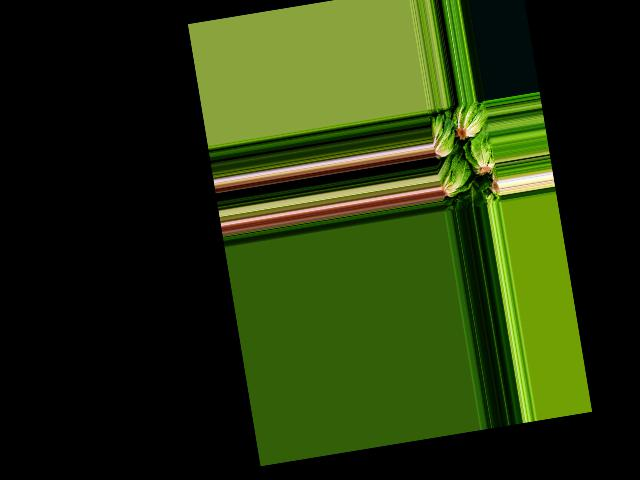lettuce: (459, 181, 487, 209)
